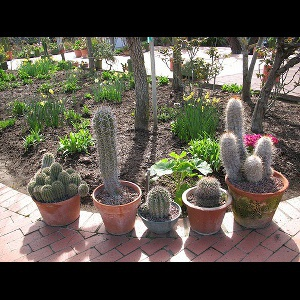flowerpot: (227, 168, 288, 228), (92, 181, 141, 235), (183, 184, 231, 236), (29, 181, 82, 227), (139, 201, 181, 234)
